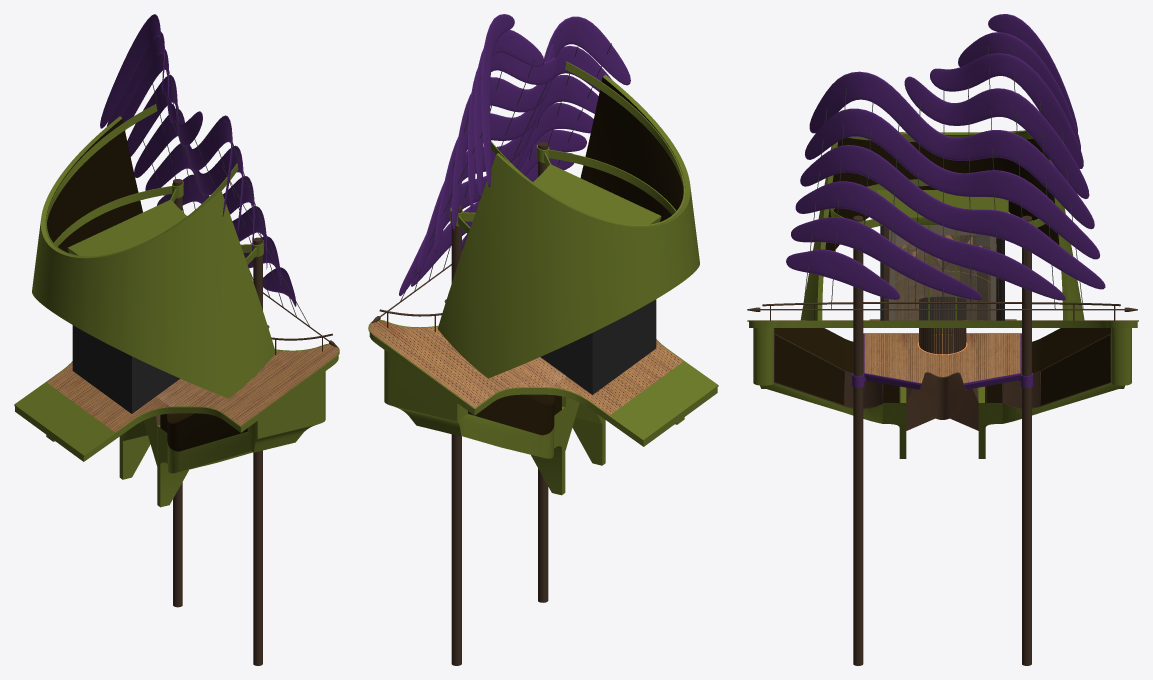
3 views of the same model, side by side, from view 1: azimuth 30°, elevation 25°; view 2: azimuth 150°, elevation 25°; view 3: azimuth 270°, elevation 25° (orthographic). The views are drawn at different scales.
Visible parts, largest first — view 1: Circle004, Shape014, Group269, Rectangle025, Rectangle027, Cylinder018, Line057, Shape016, Shape015, Shape013; view 2: Circle004, Shape014, Group269, Rectangle025, Rectangle027, Cylinder018, Line057, Shape016, Shape015, Shape013; view 3: Shape014, Group269, Rectangle025, Cylinder018, Rectangle026, Circle004, Line057, Rectangle027, Cylinder019, Shape013, Plane006, Group001 (+3 smaller).
Boxes of the visible parts, <box> form: Circle004: <box>32,116,274,398</box>; Shape014: <box>100,14,296,306</box>; Group269: <box>14,325,339,465</box>; Rectangle025: <box>119,371,325,507</box>; Rectangle027: <box>67,181,263,413</box>; Cylinder018: <box>173,179,262,665</box>; Line057: <box>15,356,338,461</box>; Shape016: <box>45,104,238,256</box>; Shape015: <box>54,186,256,264</box>; Shape013: <box>120,37,309,326</box>; Circle004: <box>437,74,699,378</box>; Shape014: <box>399,14,630,295</box>; Group269: <box>368,299,718,450</box>; Rectangle025: <box>384,350,605,495</box>; Rectangle027: <box>450,144,661,394</box>; Cylinder018: <box>451,142,548,665</box>; Line057: <box>369,333,717,446</box>; Shape016: <box>491,61,685,225</box>; Shape015: <box>458,149,676,234</box>; Shape013: <box>400,27,611,301</box>; Shape014: <box>786,14,1105,300</box>; Group269: <box>747,225,1138,430</box>; Rectangle025: <box>753,328,1131,458</box>; Cylinder018: <box>853,215,1031,665</box>; Rectangle026: <box>852,333,1033,389</box>; Circle004: <box>800,130,1084,320</box>; Line057: <box>749,321,1137,327</box>; Rectangle027: <box>859,190,1033,320</box>; Cylinder019: <box>919,297,966,354</box>; Shape013: <box>803,44,1083,309</box>; Plane006: <box>895,235,990,319</box>; Group001: <box>895,235,990,319</box>.
Size of the model in its own units: 8.54 by 22.32 by 12.49.
13 materials, 3 textured.
